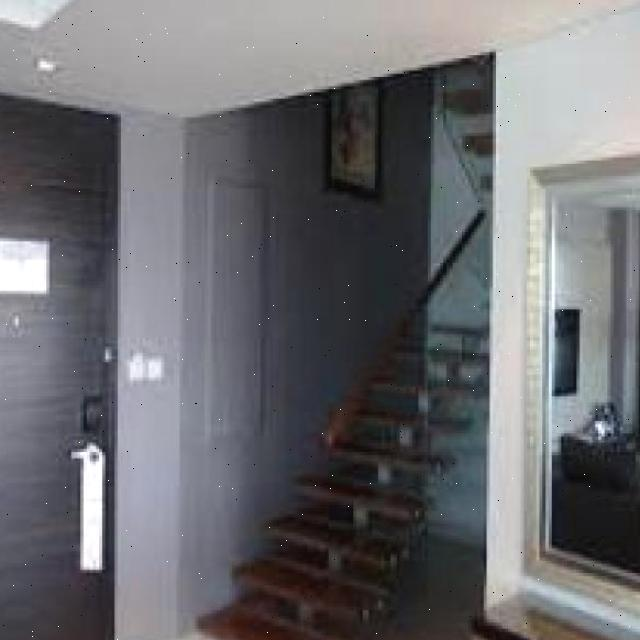stair: (184, 474, 404, 640)
